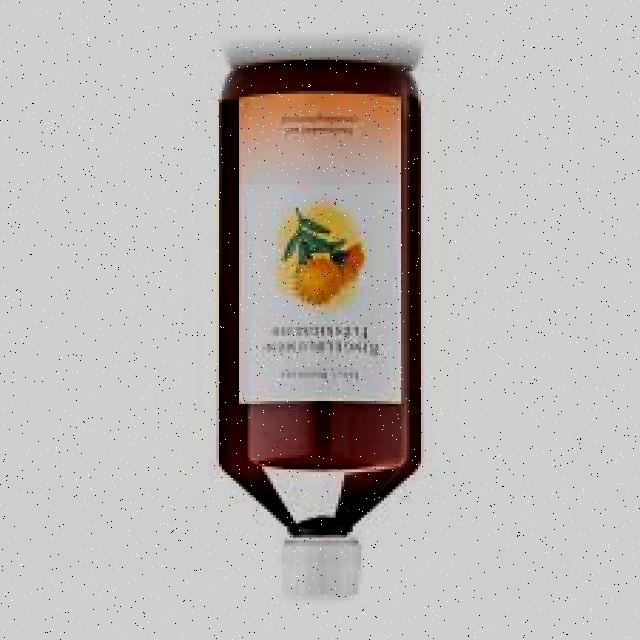liquid soap: (199, 57, 427, 611)
